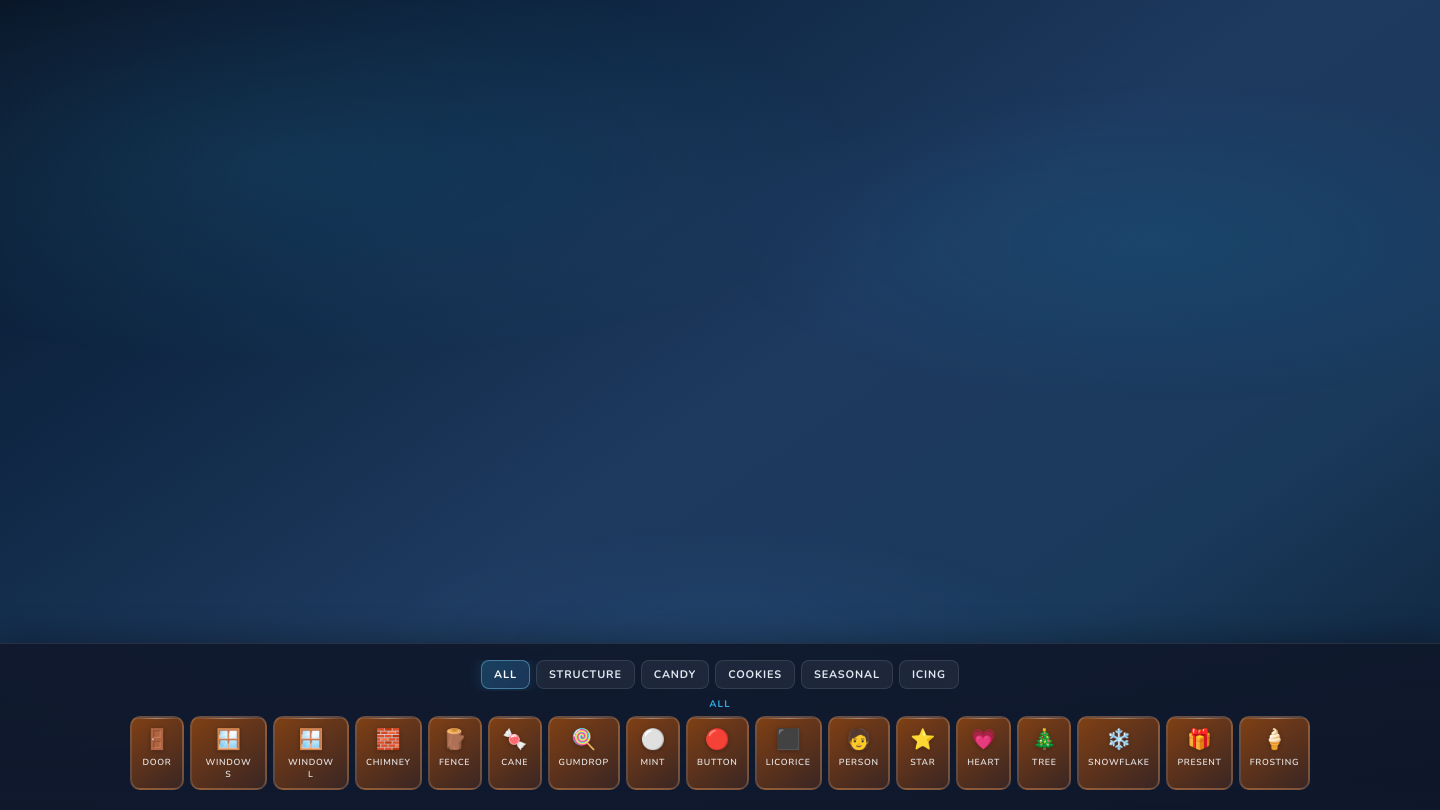
Scenario: PieceTray › filters visible pieces by category tabs
Expected: the element named "piece categories" is shown, [481, 660, 959, 689]
Expected: the button "🍭 Gumdrop" is shown, [548, 716, 620, 790]
Click the tab "Structure" at (585, 674), box [536, 660, 635, 689]
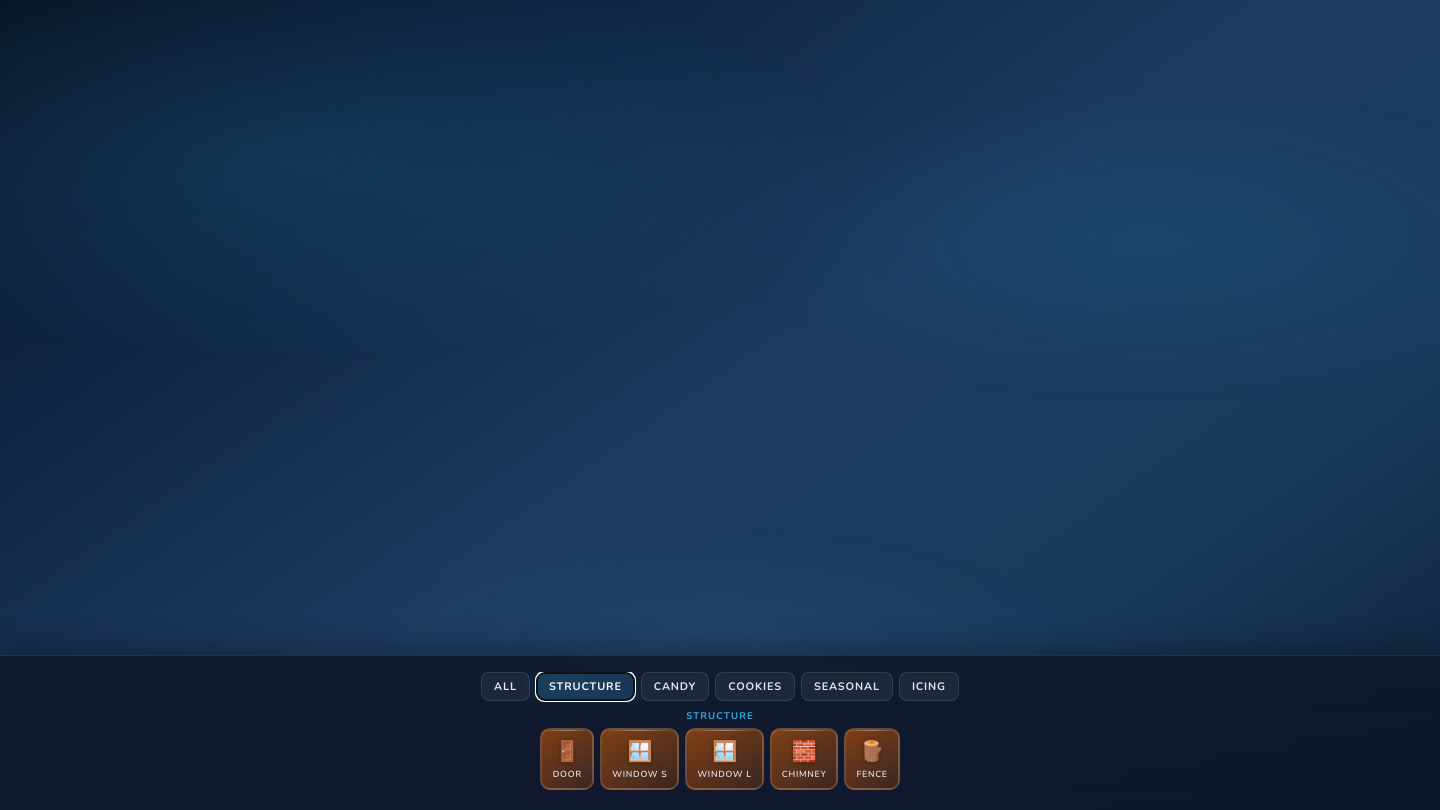
Expected: the button "🚪 Door" is shown, [540, 728, 594, 790]
Result: the button "Gumdrop" is gone
Result: the button "Star" is gone
